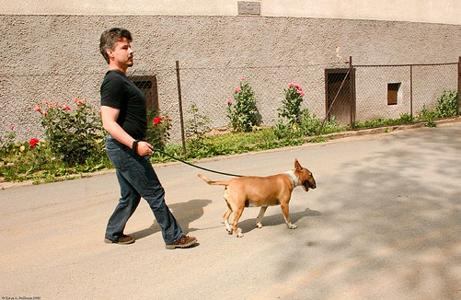person: (99, 29, 200, 249)
